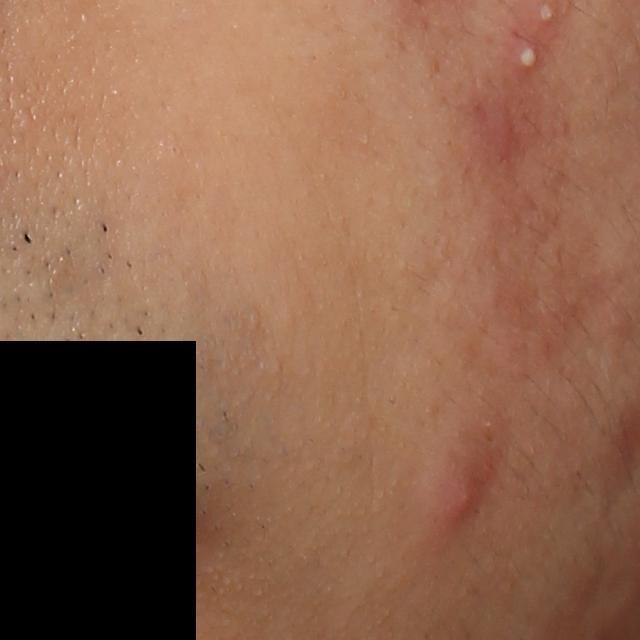papule: (422, 433, 502, 529)
pustule: (506, 30, 548, 74)
